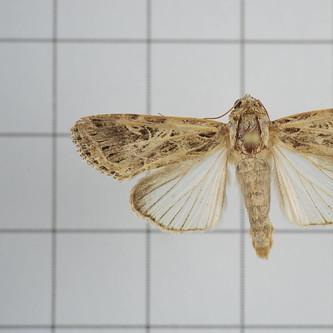Spodoptera litura: (70, 93, 333, 261)
